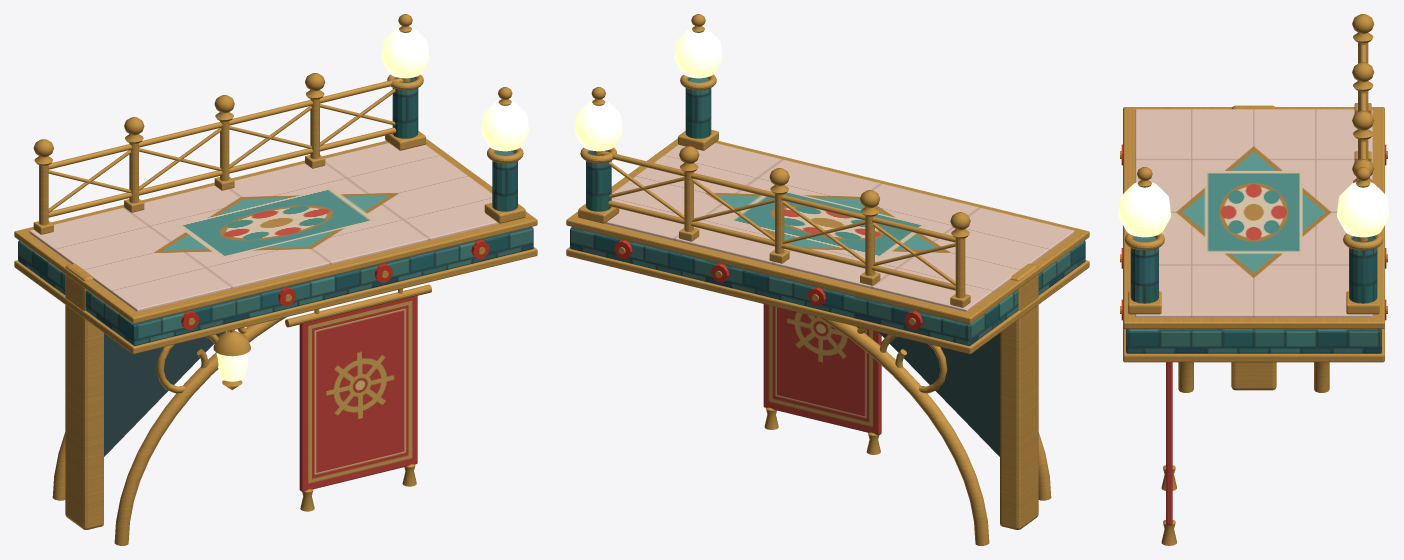
Rendered from act2_balcony_v2.glb.
3 views of the same model, side by side, from view 1: azimuth 30°, elevation 25°; view 2: azimuth 150°, elevation 25°; view 3: azimuth 270°, elevation 25° (orthographic). The views are drawn at different scales.
Visible parts, largest first — view 1: SM_Act2_BalconyV2_Mesh; view 2: SM_Act2_BalconyV2_Mesh; view 3: SM_Act2_BalconyV2_Mesh.
Part boxes in pixels (box(x1,y1,x2,y2)): SM_Act2_BalconyV2_Mesh: box(14, 14, 537, 545); SM_Act2_BalconyV2_Mesh: box(566, 14, 1089, 545); SM_Act2_BalconyV2_Mesh: box(1118, 14, 1389, 545).
Bounding box in the file's own units: 2.72 × 2.48 × 1.44.
Materials: 7 (5 with a texture image).
